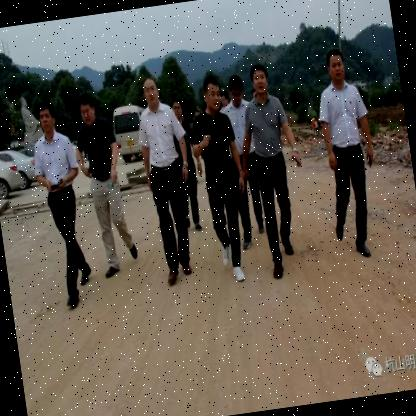sem_capacete: (323, 47, 348, 88), (247, 61, 272, 100), (199, 74, 223, 114), (35, 97, 58, 138), (75, 91, 97, 130), (226, 72, 246, 111), (140, 75, 162, 110), (169, 96, 185, 122), (218, 86, 230, 108)
sem_colete_refletivo: (312, 78, 374, 158), (238, 87, 294, 164), (134, 101, 188, 176), (188, 106, 240, 182), (27, 128, 82, 198), (72, 114, 124, 184), (222, 98, 260, 160), (168, 114, 200, 170)
